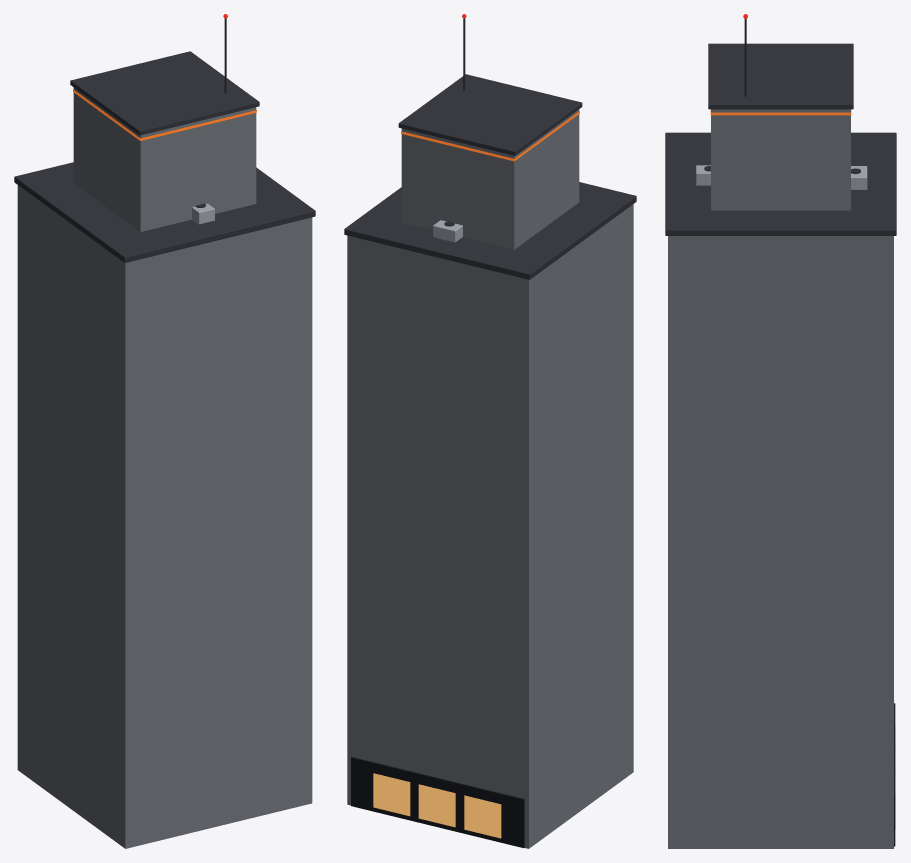
The model's file is building_a.glb.
The picture shows the model from 3 angles, left to right: view 1: azimuth 30°, elevation 25°; view 2: azimuth 150°, elevation 25°; view 3: azimuth 270°, elevation 25°; orthographic projection. The views are drawn at different scales.
Visible parts, largest first — view 1: BuildingA; view 2: BuildingA; view 3: BuildingA.
Part boxes in pixels (x1,y1,x2,y2): BuildingA: (14,14,315,848); BuildingA: (344,14,636,848); BuildingA: (665,14,896,848).
Size of the model in its own units: 13.1 by 50.64 by 13.1.
